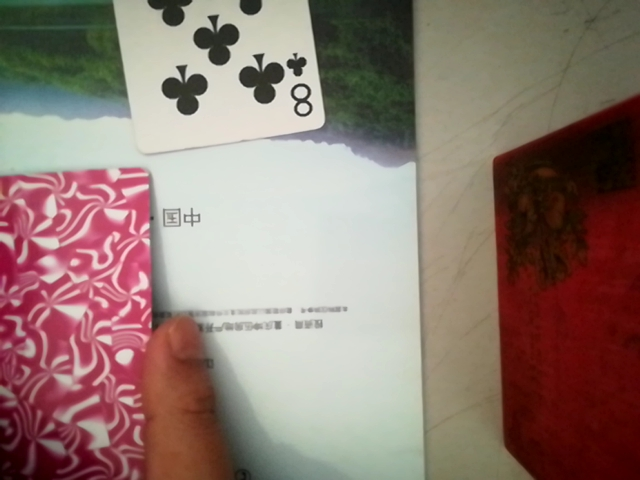mh 8: (111, 0, 323, 161)
